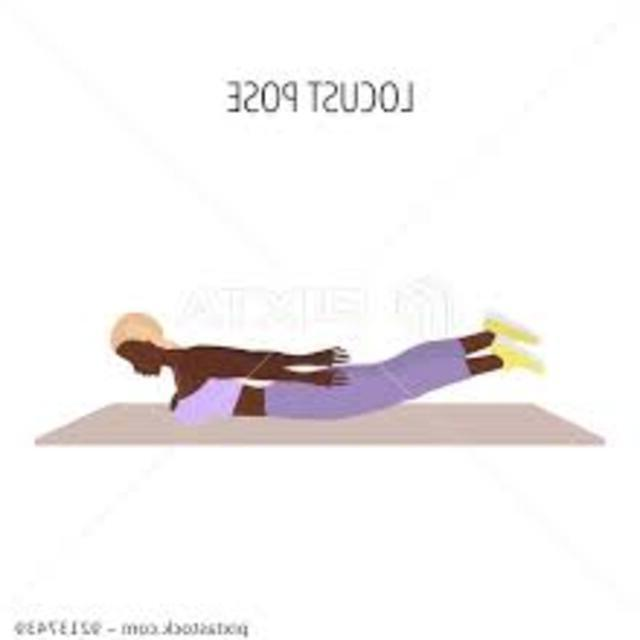Locust_Pose: (112, 305, 548, 426)
